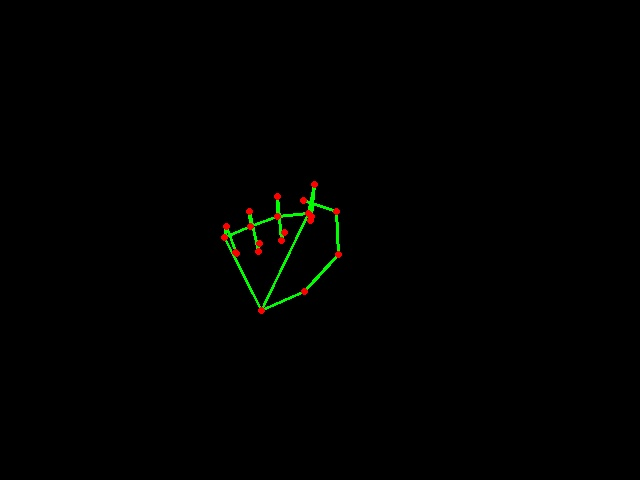back: (214, 173, 355, 319)
